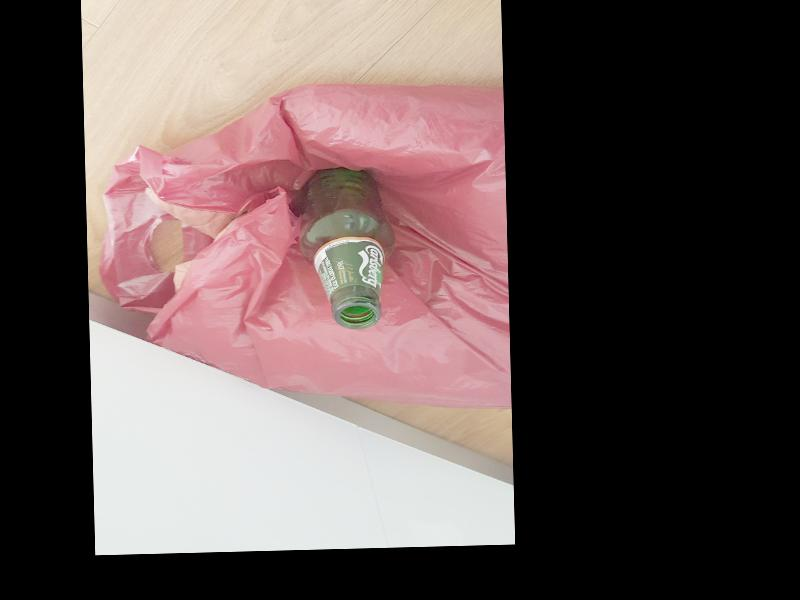Beer: (297, 165, 395, 328)
